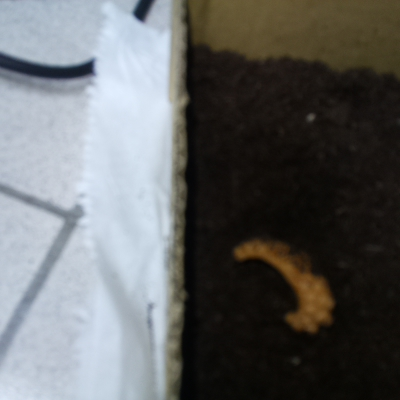eggs: (225, 228, 347, 332)
